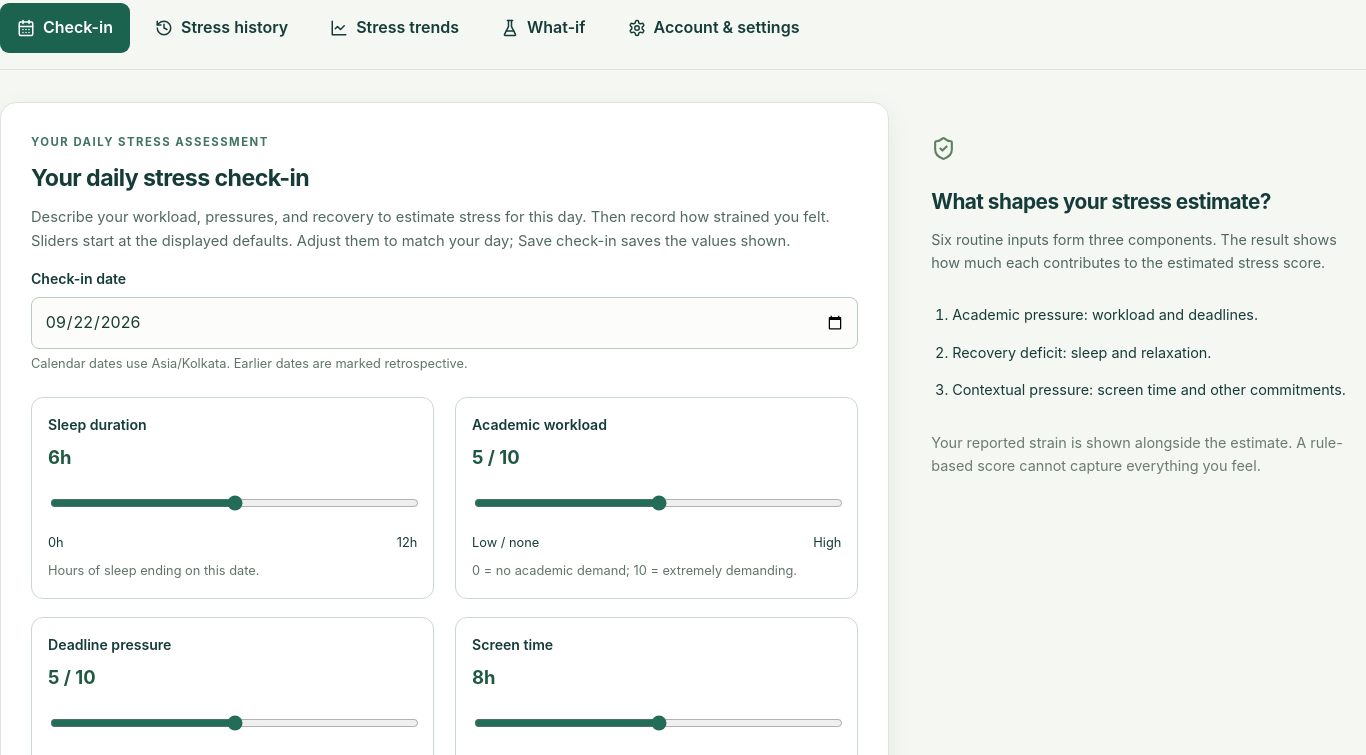
Scenario: requires typed confirmation with a freshly loaded version for history deletion
Click the button "Account & settings".
click(713, 28)  # box [610, 3, 816, 53]
(page scrolled)
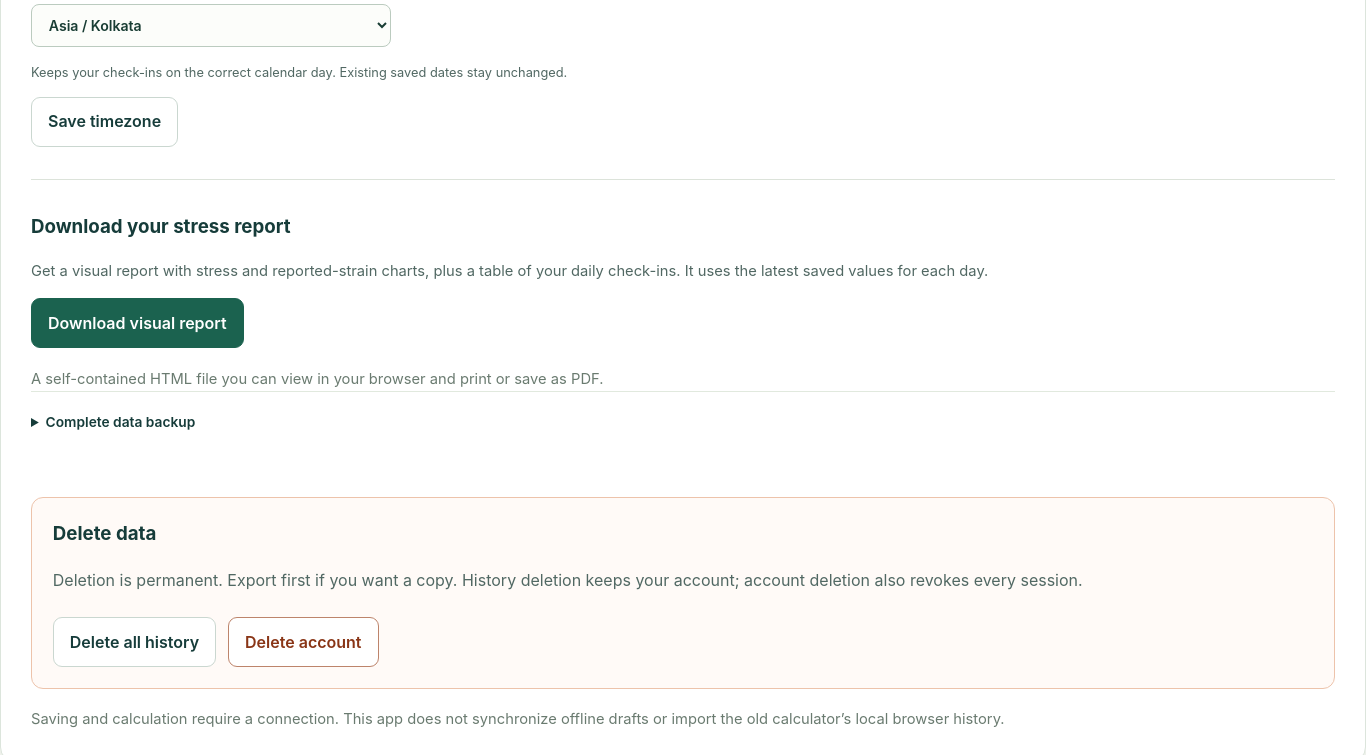
Check: the button "Delete all history" is enabled
Click the button "Delete all history".
click(134, 642)  # box [53, 617, 216, 667]
(page scrolled)
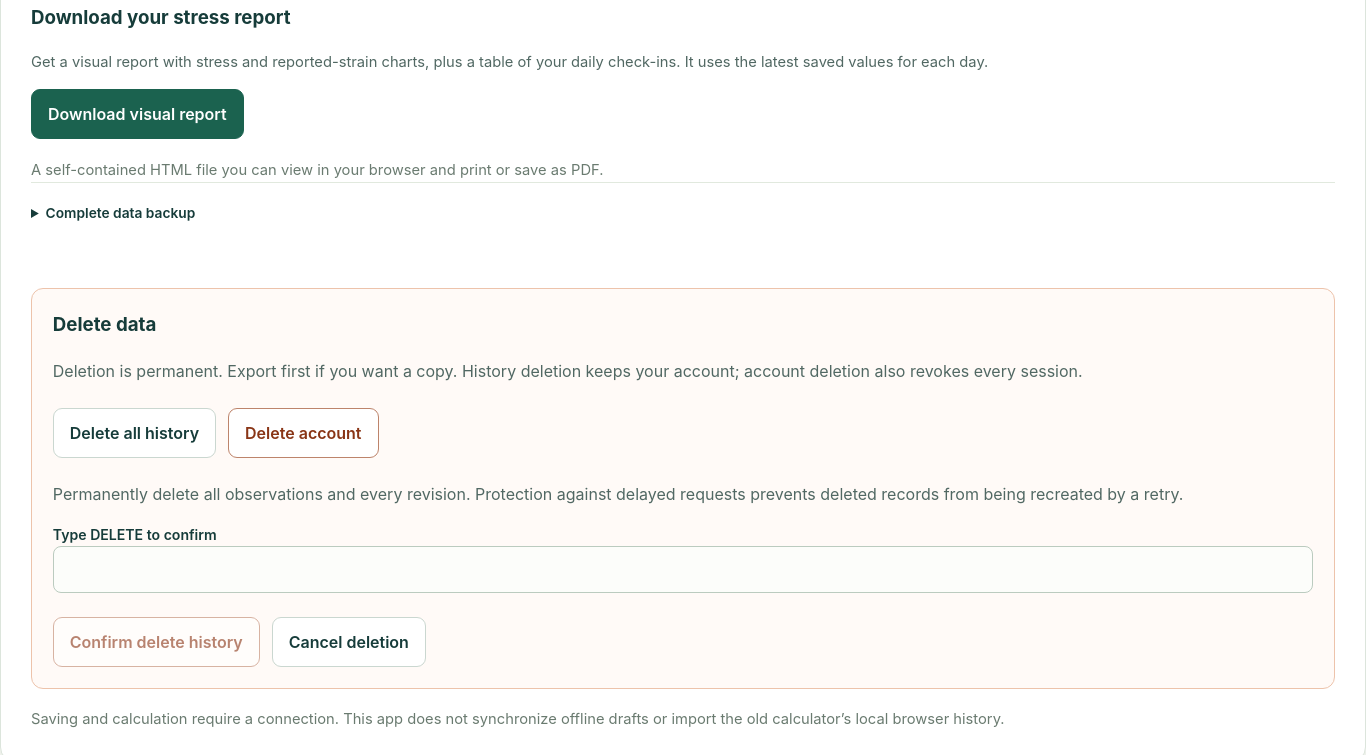
Check: the button "Confirm delete history" is disabled, box [53, 617, 260, 667]
Type "DELETE" into the field labelled "Type DELETE to confirm".
click(683, 570); type("DELETE")  # box [53, 546, 1313, 593]
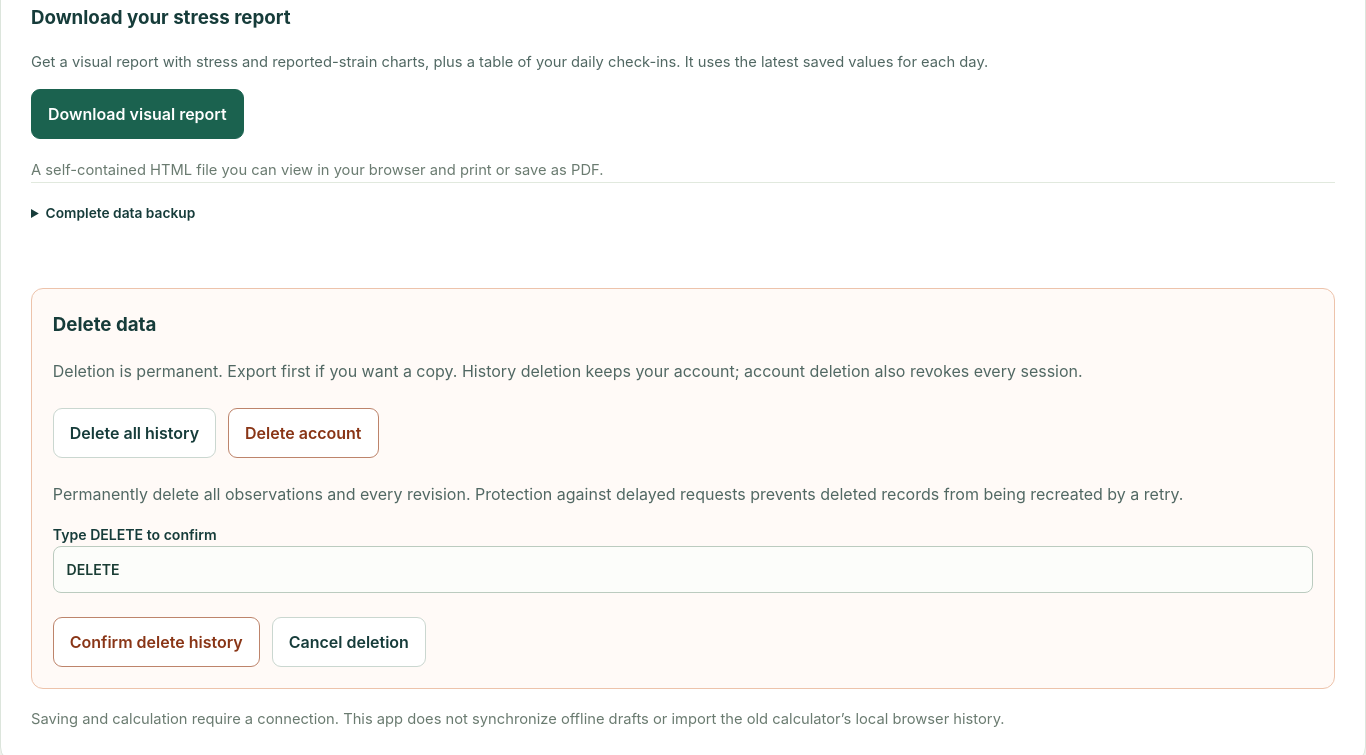
Click the button "Confirm delete history".
click(156, 642)  # box [53, 617, 260, 667]
(page scrolled)
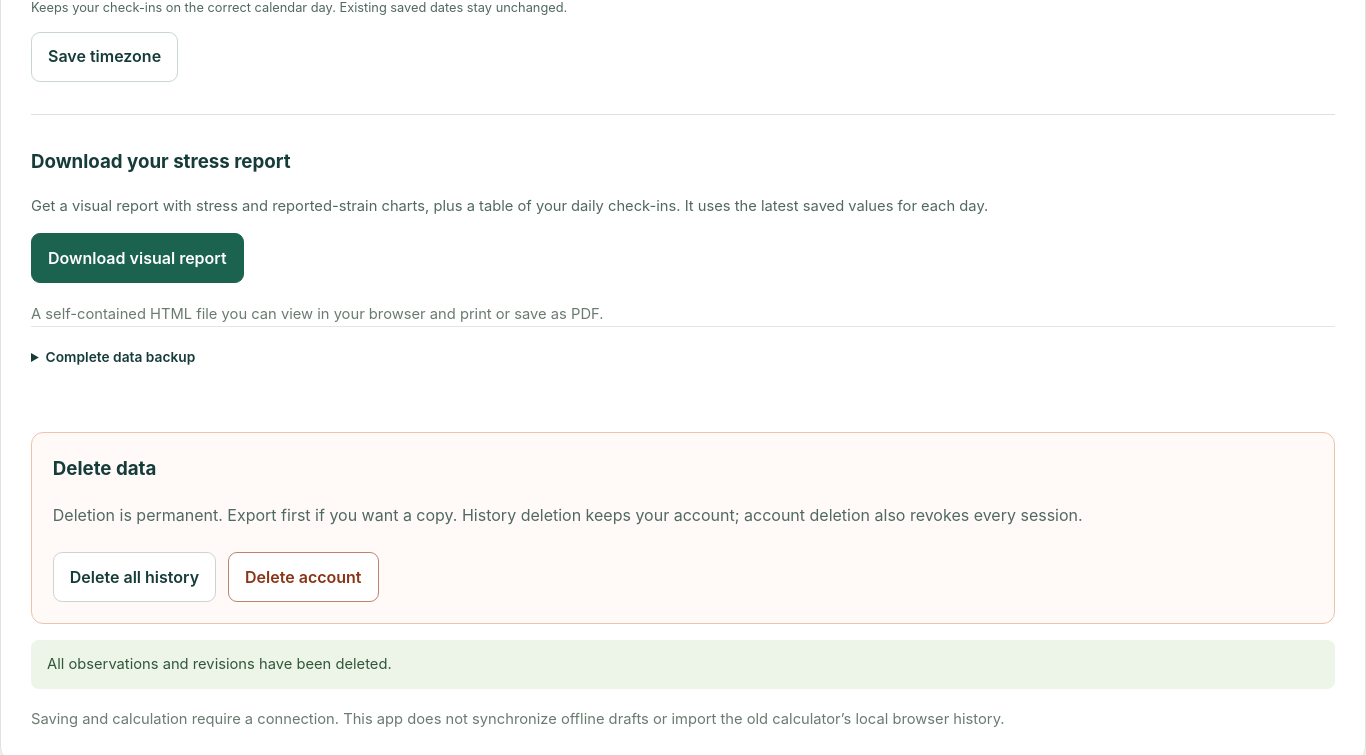
Check: the text "All observations and revisions have been deleted." is shown, box [31, 640, 1335, 689]
